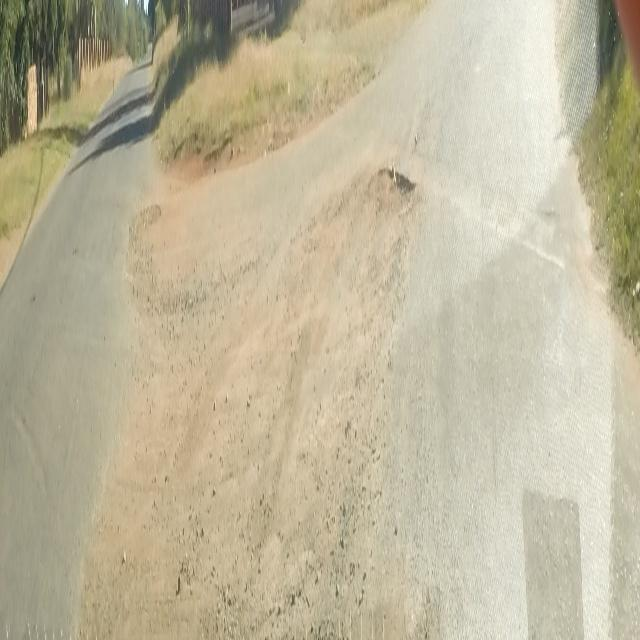pothole: (364, 152, 416, 220), (125, 194, 162, 230)
